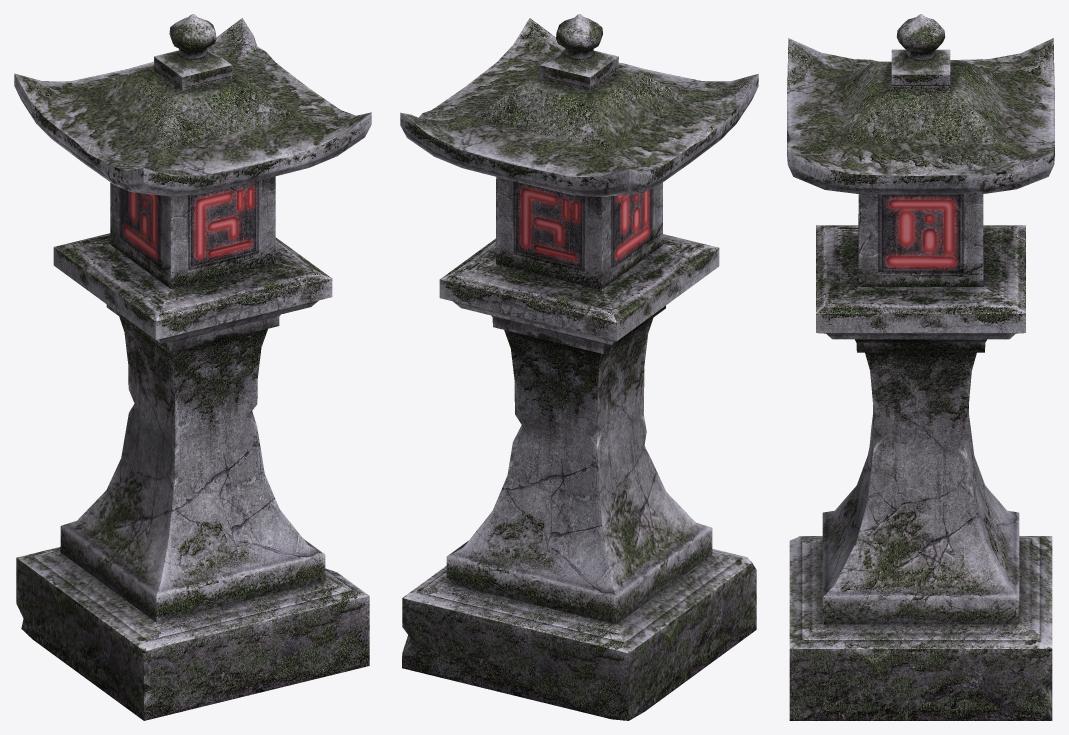
File: SM_AsianLight.FBX
The picture shows the model from 3 angles, left to right: view 1: azimuth 30°, elevation 25°; view 2: azimuth 150°, elevation 25°; view 3: azimuth 270°, elevation 25°; orthographic projection. The views are drawn at different scales.
Visible parts, largest first — view 1: SM_AsianLight; view 2: SM_AsianLight; view 3: SM_AsianLight.
Boxes of the visible parts, x1,y1,x2,y2 form: SM_AsianLight: (14, 14, 371, 720); SM_AsianLight: (400, 14, 758, 720); SM_AsianLight: (787, 14, 1054, 720).
Size of the model in its own units: 50.25 by 49.14 by 132.
